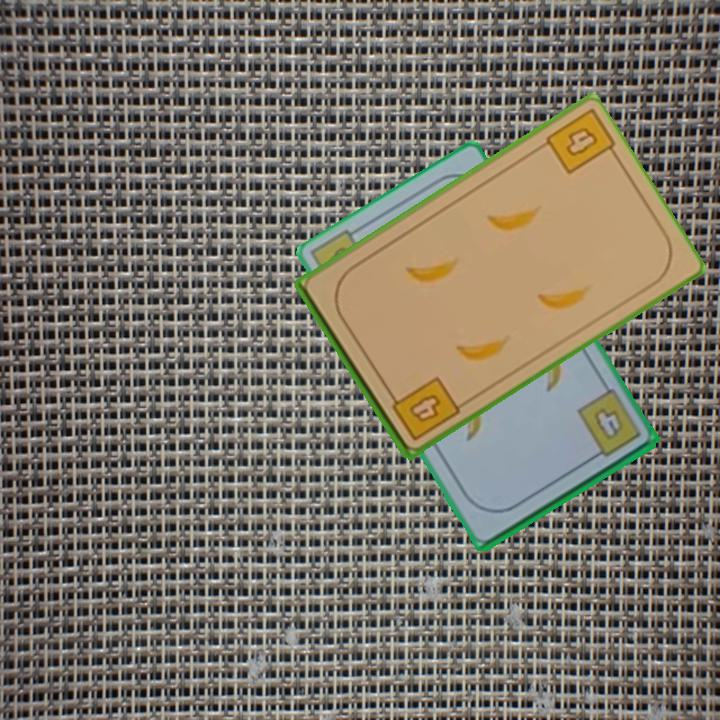4b: (384, 373, 462, 444), (573, 388, 644, 464), (561, 122, 601, 159)
